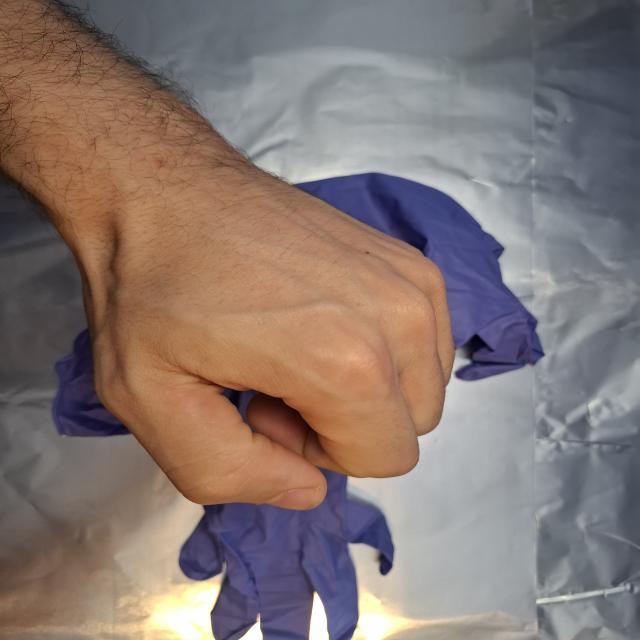glove_off: (86, 148, 458, 514)
